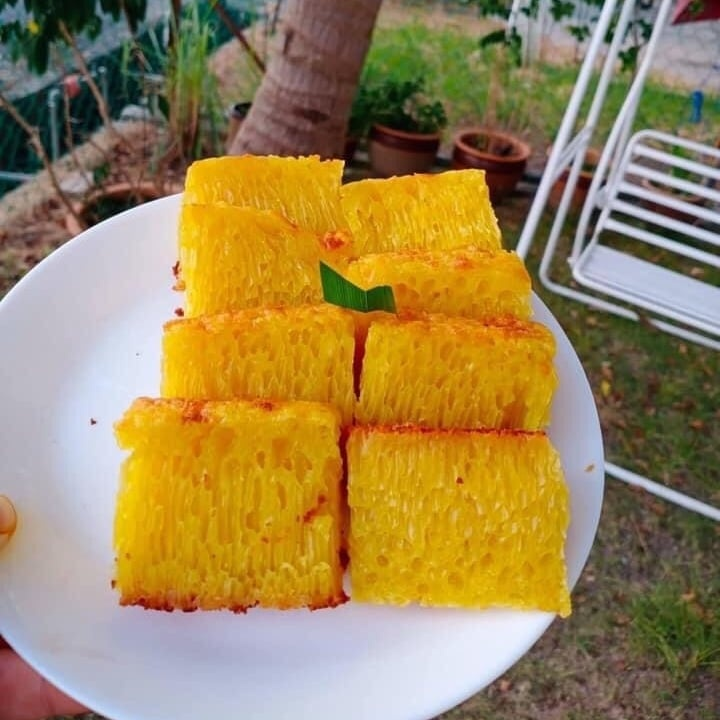bika_ambon: (329, 406, 591, 643), (86, 381, 343, 616)
